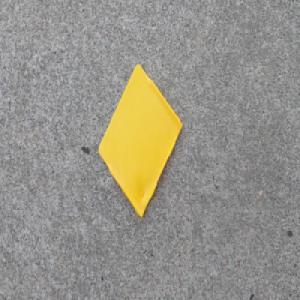PlasticPart: (97, 62, 184, 219)
